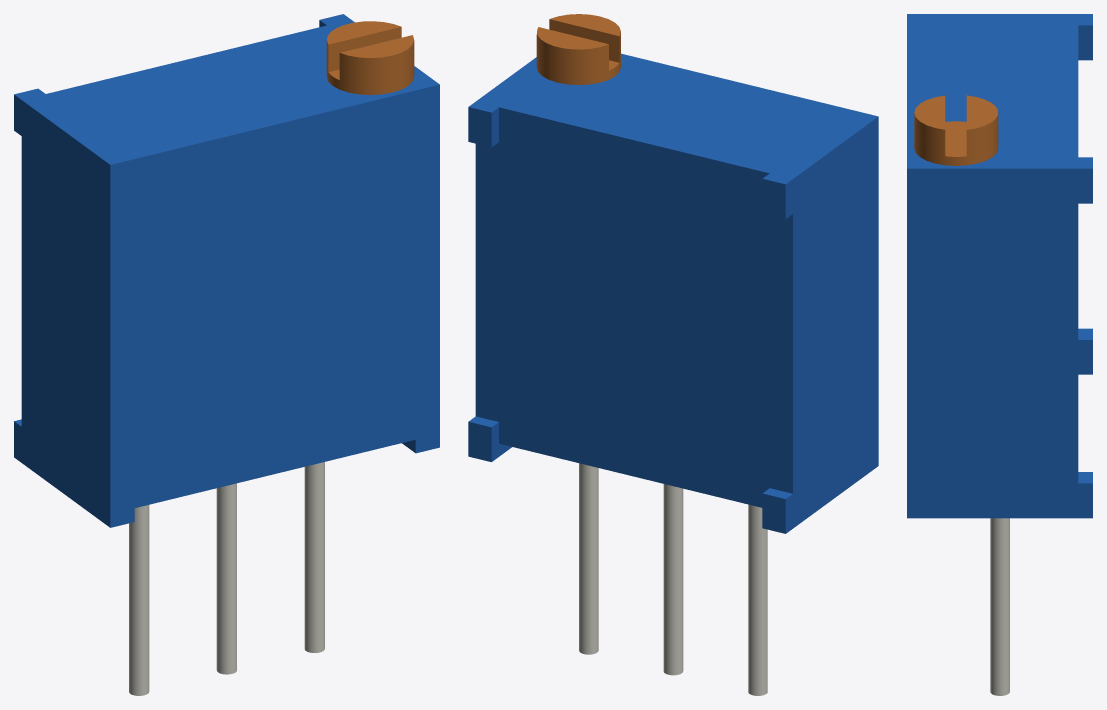
File: Potentiometer_Bourns_3296W_Vertical.glb
3 views of the same model, side by side, from view 1: azimuth 30°, elevation 25°; view 2: azimuth 150°, elevation 25°; view 3: azimuth 270°, elevation 25° (orthographic). The views are drawn at different scales.
Parts seen in each view (by area): view 1: =>[0:1:1:3]; view 2: =>[0:1:1:3]; view 3: =>[0:1:1:3].
Part boxes in pixels (x1=…): =>[0:1:1:3]: x1=14, y1=14, x2=439, y2=695; =>[0:1:1:3]: x1=468, y1=14, x2=878, y2=695; =>[0:1:1:3]: x1=907, y1=14, x2=1092, y2=695.
Bounding box in the file's own units: 0.00953 × 0.0171 × 0.00483.
